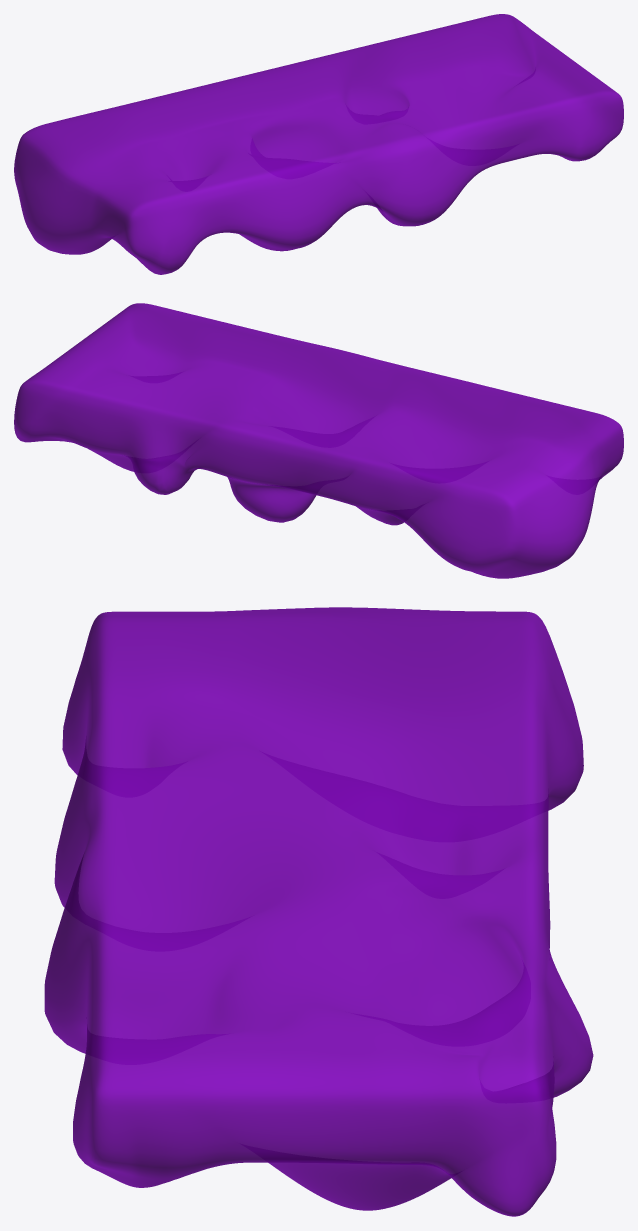
Rendered from Platform_Jelly_smooth.fbx.
The picture shows the model from 3 angles, top to bottom: view 1: azimuth 30°, elevation 25°; view 2: azimuth 150°, elevation 25°; view 3: azimuth 270°, elevation 25°; orthographic projection. The views are drawn at different scales.
Parts seen in each view (by area): view 1: pCube1; view 2: pCube1; view 3: pCube1.
Part boxes in pixels (bbox=[...]): pCube1: bbox=[14, 14, 623, 274]; pCube1: bbox=[14, 303, 623, 578]; pCube1: bbox=[44, 607, 593, 1216].
Size of the model in its own units: 44.5 by 8.39 by 20.
